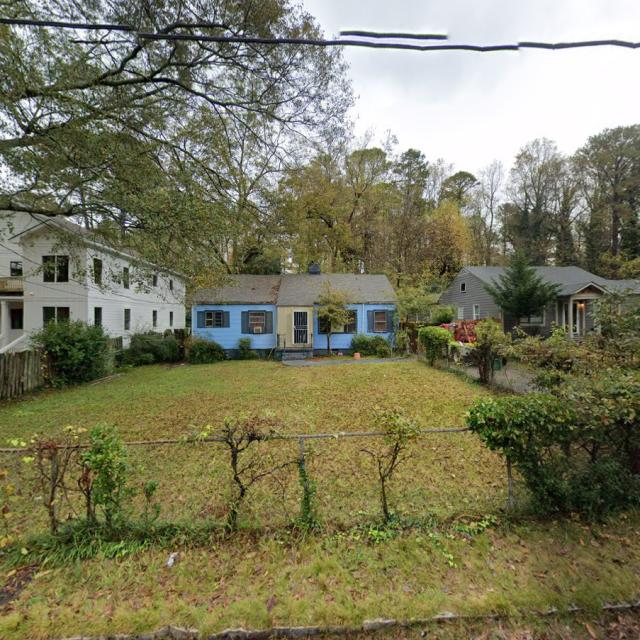House: (0, 199, 188, 355), (191, 262, 401, 360), (408, 266, 640, 341)
